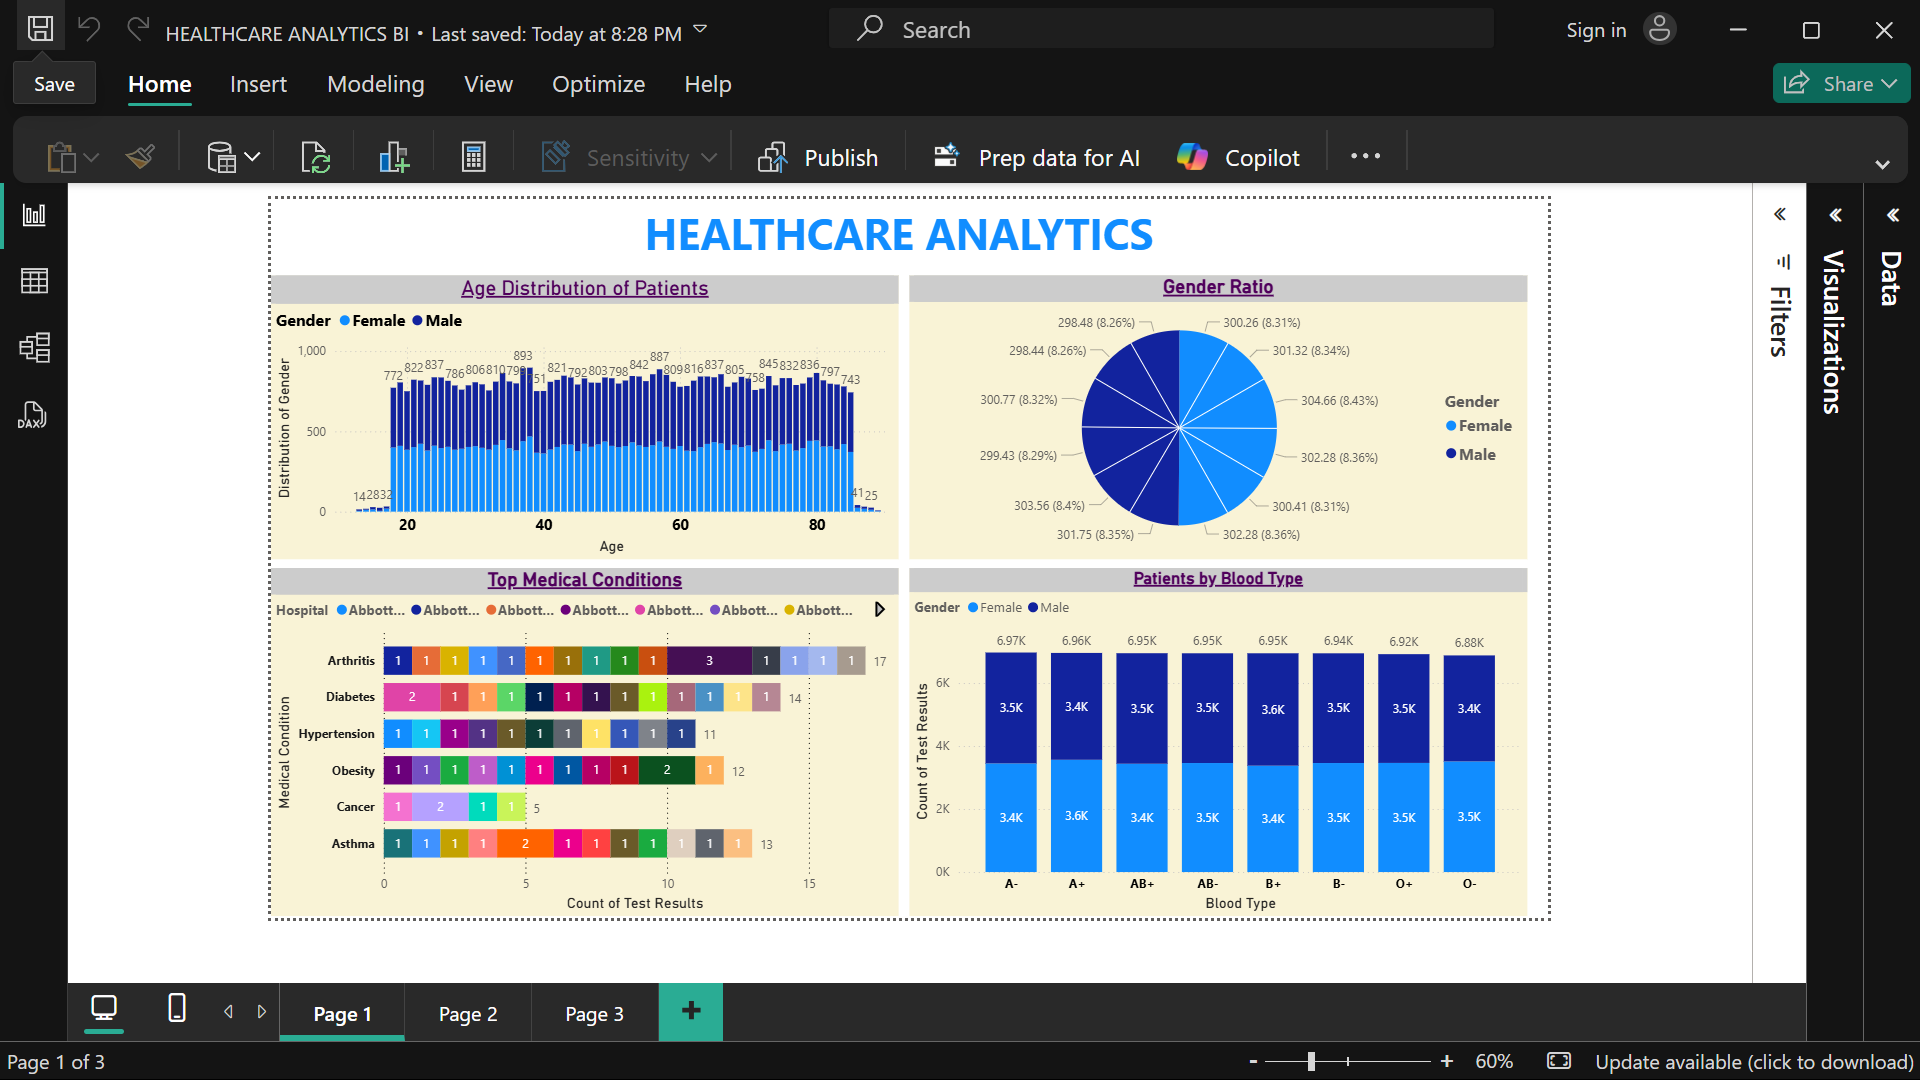

The dashboard page shown, as its layout file describes it:
{"tool":"powerbi","page":{"name":"Page 1","canvas":[1280,720],"ordinal":0},"visuals":[{"type":"textbox","box":[0,0,1259,76.4],"z":0},{"type":"columnChart","title":"Age Distribution of Patients","fields":{"Category":["healthcare_dataset.Age"],"Y":["CountNonNull(healthcare_dataset.Gender)"],"Series":["healthcare_dataset.Gender"]},"box":[0,76.5,629.4,284.3],"z":1000},{"type":"barChart","title":"Top Medical Conditions","fields":{"Category":["healthcare_dataset.Medical Condition"],"Y":["CountNonNull(healthcare_dataset.Test Results)"],"Series":["healthcare_dataset.Hospital"]},"box":[0,370.6,629.4,349],"z":2000},{"type":"pieChart","title":"Gender Ratio","fields":{"Category":["healthcare_dataset.Gender"],"Series":["healthcare_dataset.Medical Condition"],"Y":["Avg(healthcare_dataset.Room Number)"]},"box":[639.2,76.5,619.6,284.3],"z":3000},{"type":"columnChart","title":" Patients by Blood Type","fields":{"Series":["healthcare_dataset.Gender"],"Category":["healthcare_dataset.Blood Type"],"Y":["CountNonNull(healthcare_dataset.Test Results)"]},"box":[639.2,370.6,619.6,349],"z":4000}]}

Visuals, with their boxes on the page's 1280x720 design canvas (x1, y1, x2, y2). These are canvas units, not pixel positions in the 1920x1080 screenshot, which may show the page scaled, cropped or inside an application window:
textbox: 0:0:1259:76
"Age Distribution of Patients" columnChart: 0:76:629:361
"Top Medical Conditions" barChart: 0:371:629:720
"Gender Ratio" pieChart: 639:76:1259:361
" Patients by Blood Type" columnChart: 639:371:1259:720
